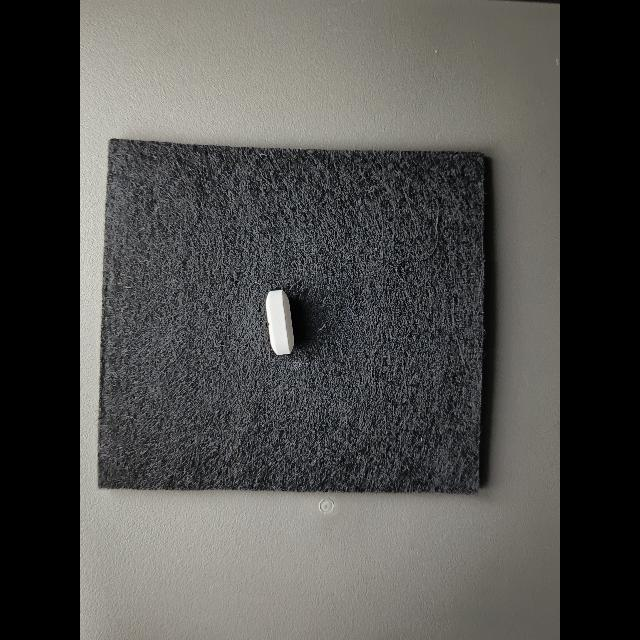Intact Pill: (265, 289, 294, 356)
